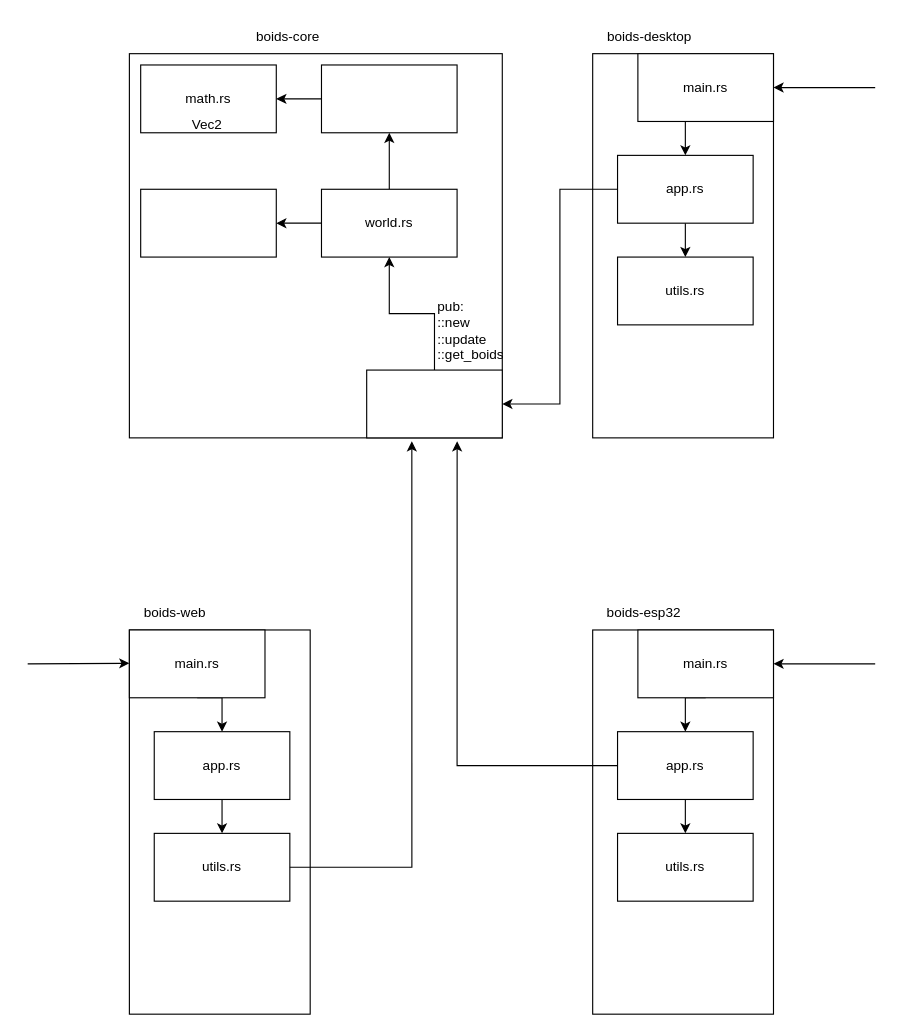
Image size: 904x1034. Some labels were removed from this diagram. The box of each missing label's shape, as (x1, y1, x2, y2) in pixels:
boid.rs: (320, 64, 457, 133)
lib.rs: (366, 369, 502, 438)
params.rs: (140, 188, 276, 257)
